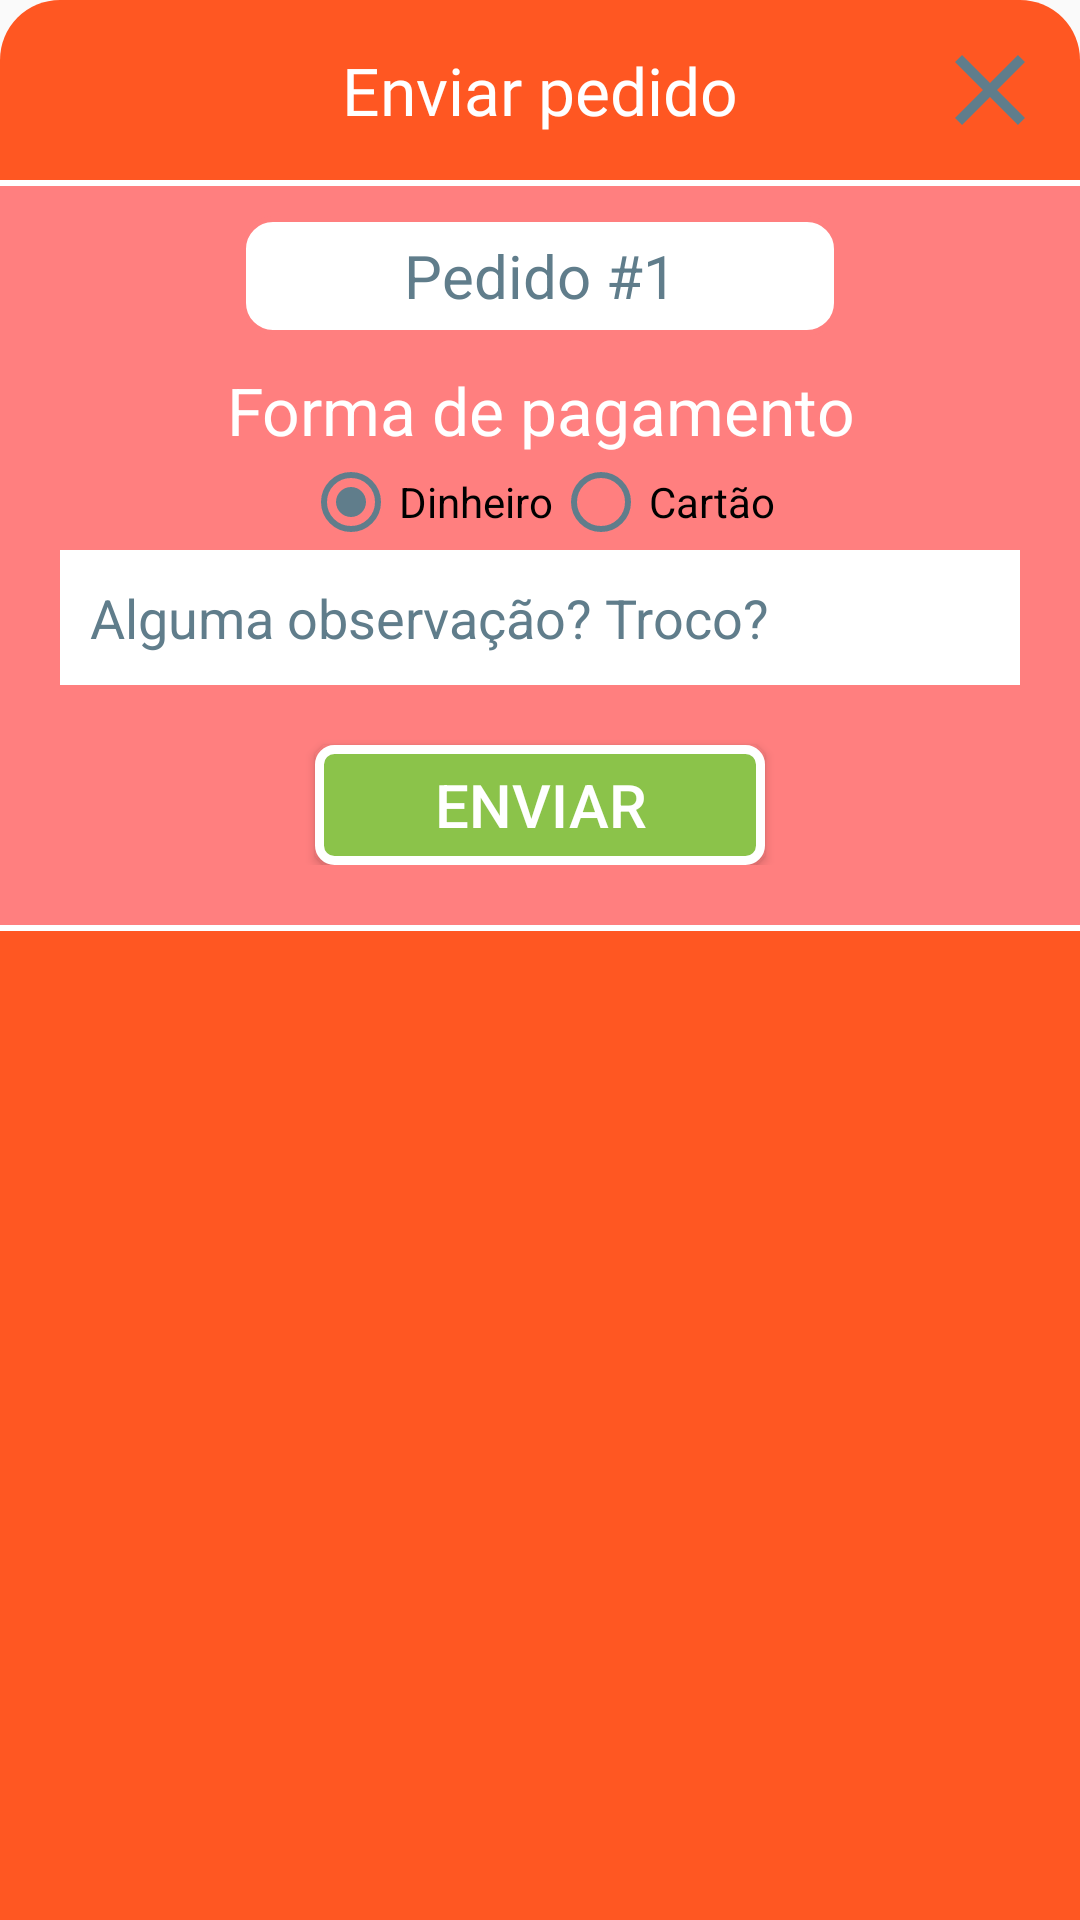

Screen size 1080x1920. Icon name, then its box in pixels as (x1, y1, x2, y2):
close: (955, 55, 1025, 125)
